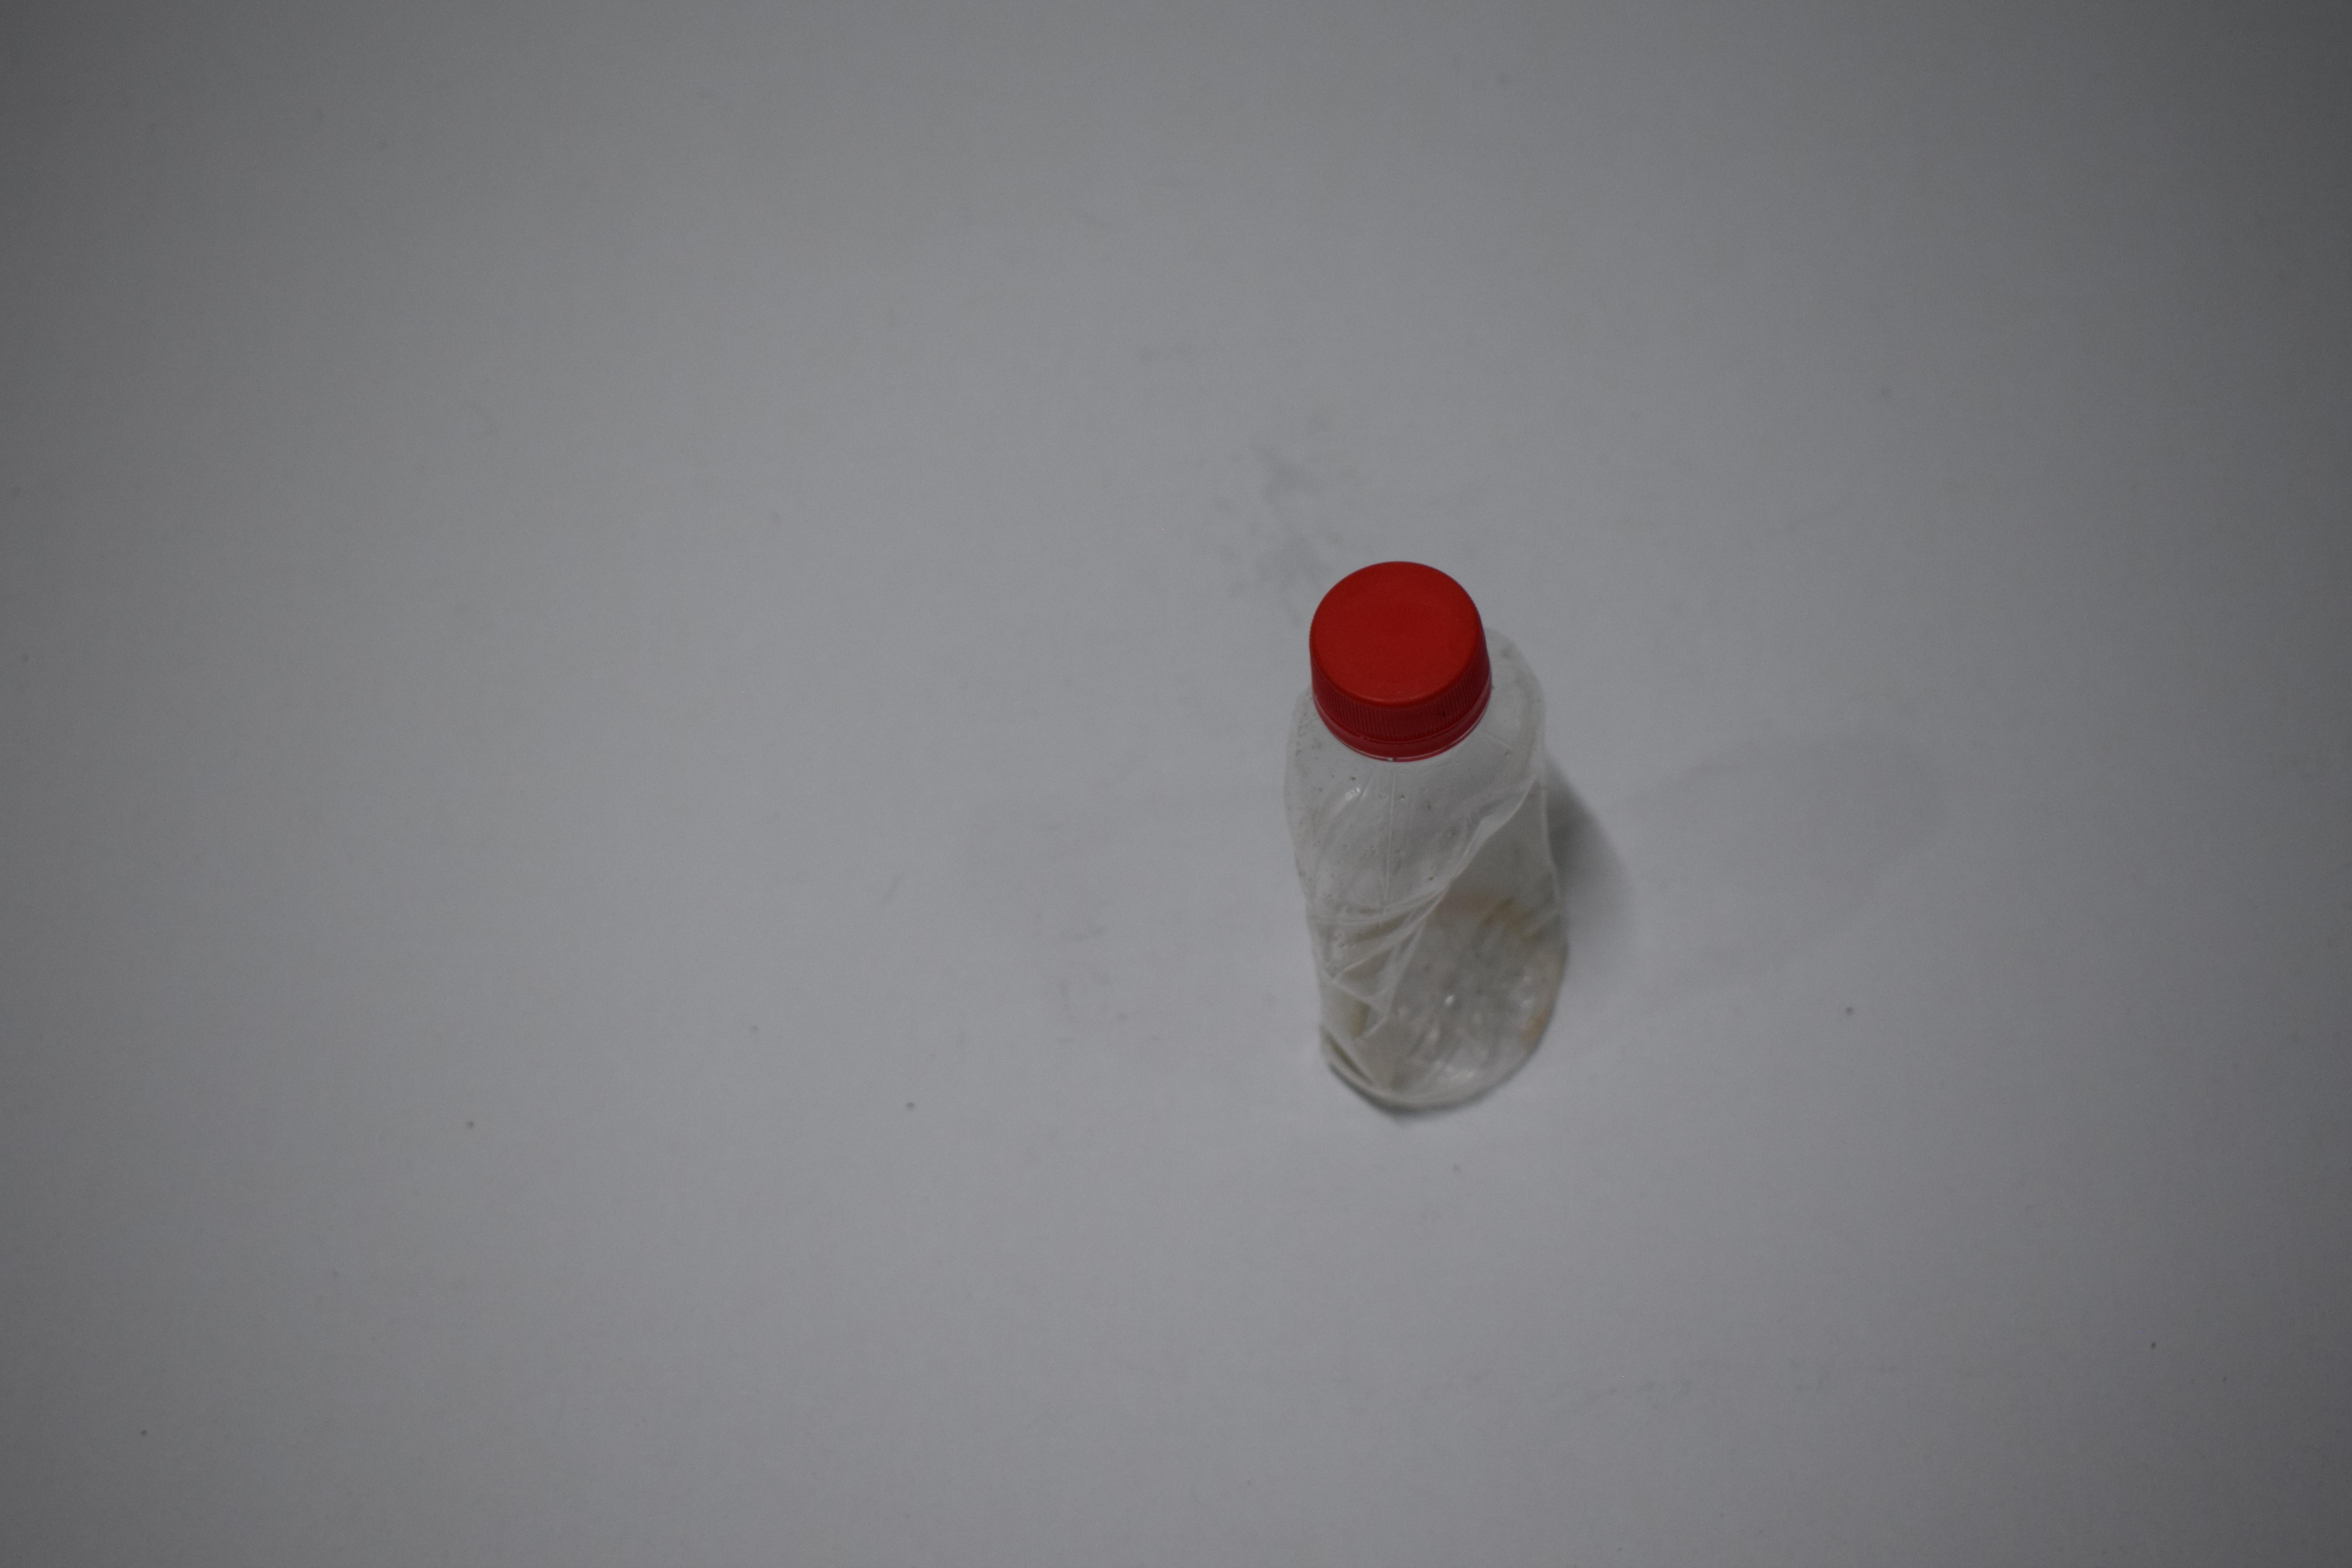bottle: (1281, 0, 1580, 341)
